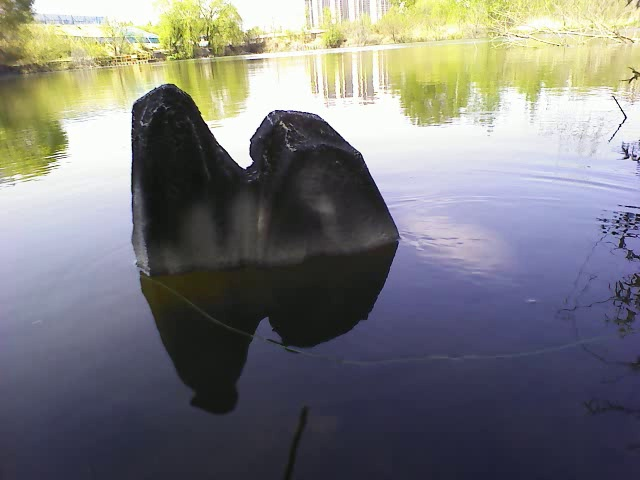rock: (122, 79, 413, 276)
